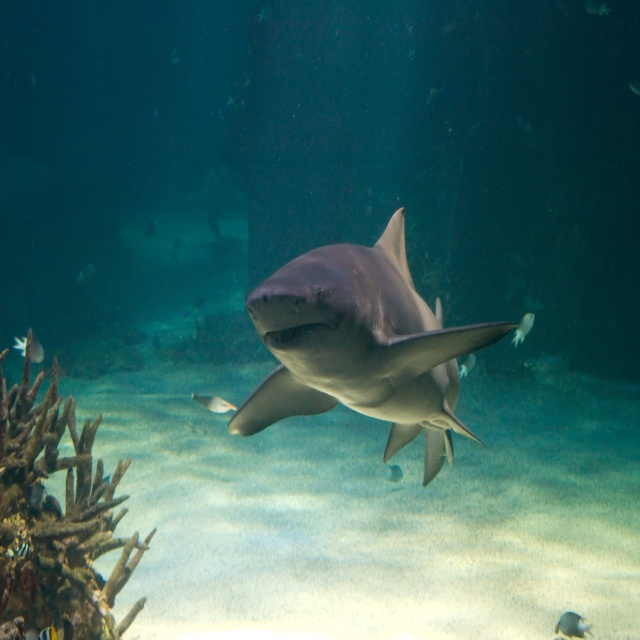Shark: (228, 208, 519, 489)
